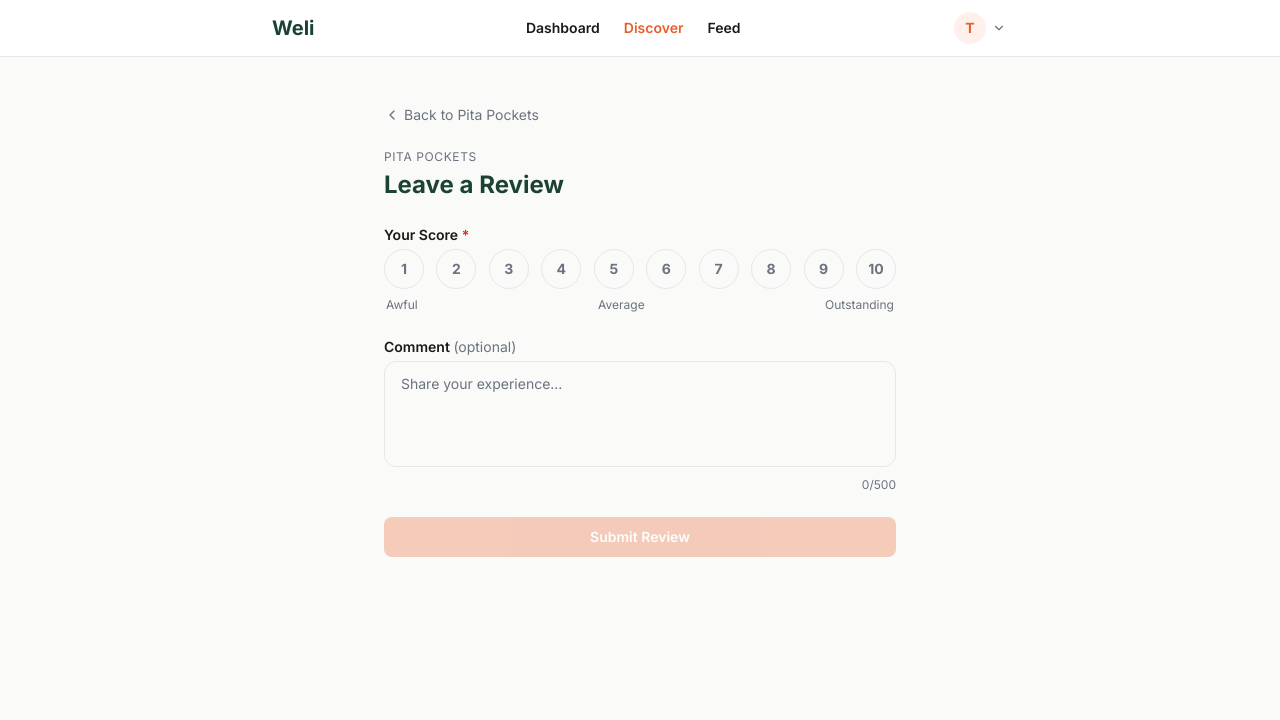
Scenario: ReviewFormPage — create mode › submit button is enabled after a score is selected
Click the radio button labelled "8" at [771, 269], box [751, 249, 791, 289]
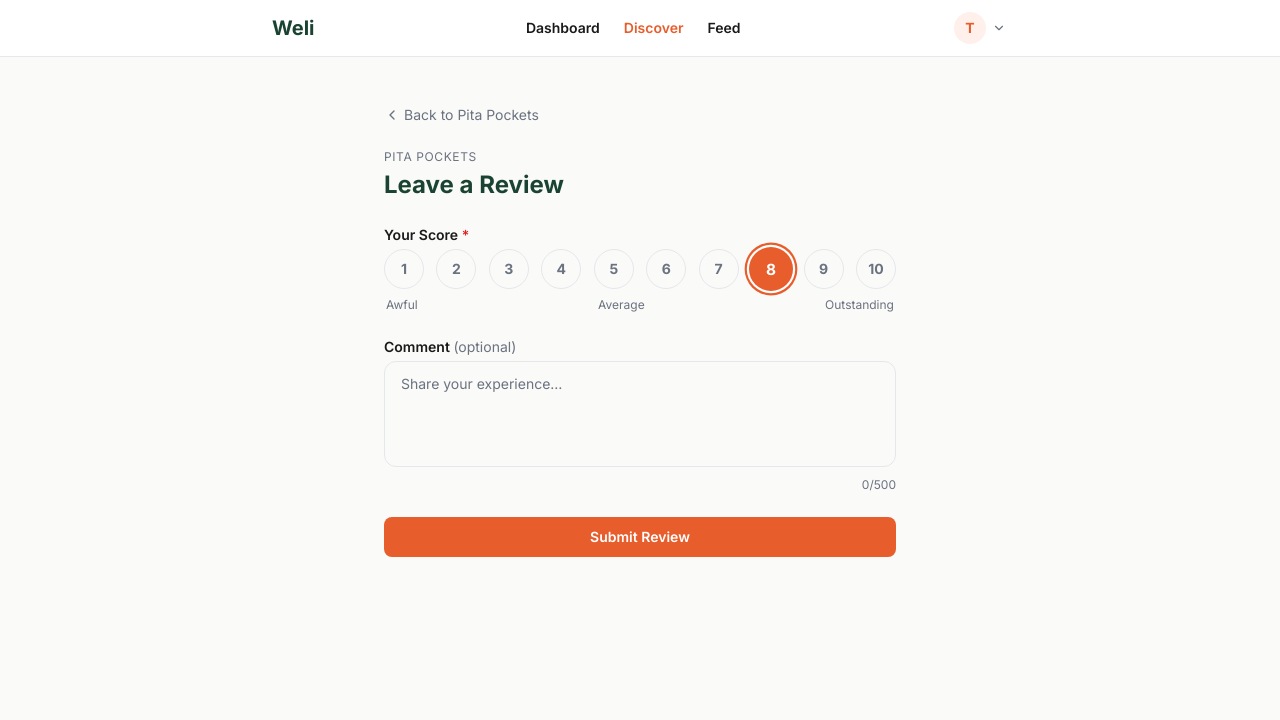
Now the button "Submit Review" is enabled, box [384, 517, 896, 557]
